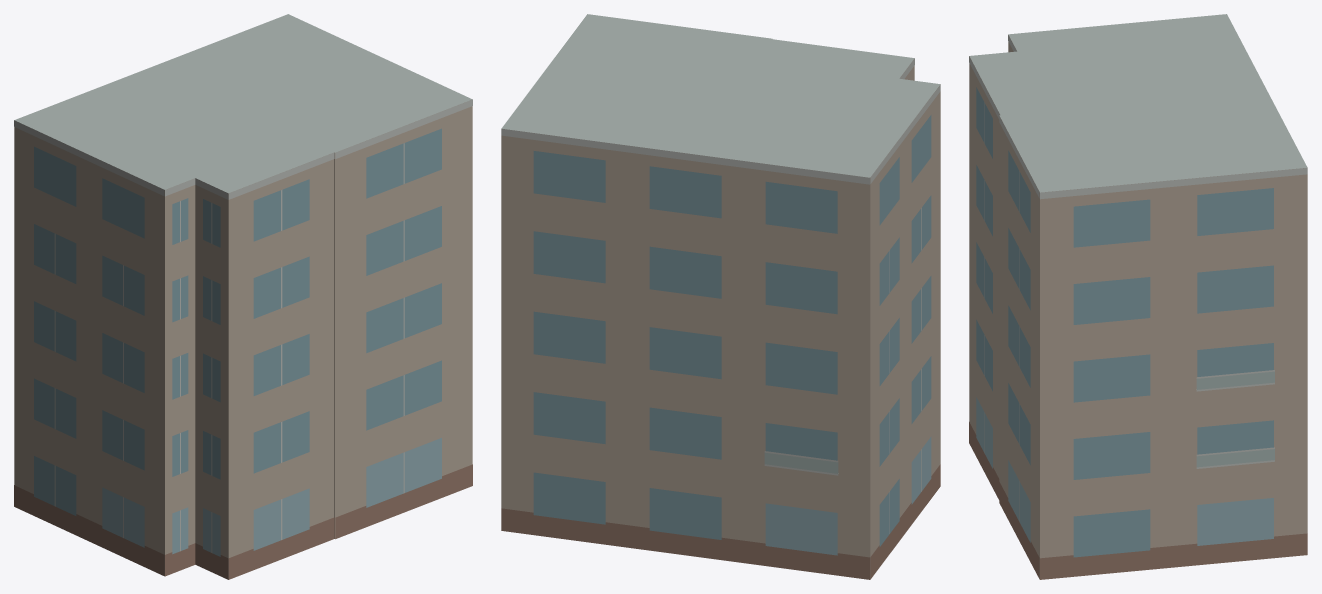
The model's file is survey-upis-32984787.glb.
The picture shows the model from 3 angles, left to right: view 1: azimuth 30°, elevation 25°; view 2: azimuth 150°, elevation 25°; view 3: azimuth 270°, elevation 25°; orthographic projection. The views are drawn at different scales.
Parts seen in each view (by area): view 1: survey-upis-32984787.tmp; view 2: survey-upis-32984787.tmp; view 3: survey-upis-32984787.tmp.
Part boxes in pixels (x1,y1,x2,y2): survey-upis-32984787.tmp: [14, 14, 472, 579]; survey-upis-32984787.tmp: [501, 14, 940, 579]; survey-upis-32984787.tmp: [969, 14, 1307, 579].
Bounding box in the file's own units: 14.05 × 14.2 × 11.25.
